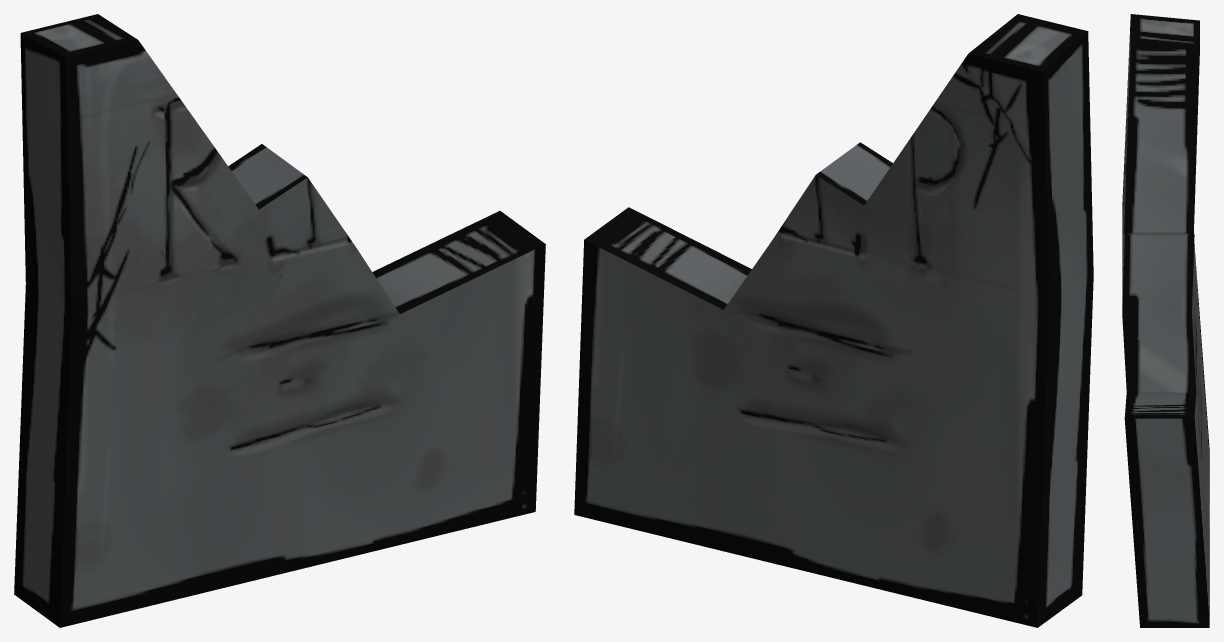
File: tombstone2_gib1.fbx
3 views of the same model, side by side, from view 1: azimuth 30°, elevation 25°; view 2: azimuth 150°, elevation 25°; view 3: azimuth 270°, elevation 25° (orthographic). The views are drawn at different scales.
Visible parts, largest first — view 1: tombstone2_gib1; view 2: tombstone2_gib1; view 3: tombstone2_gib1.
Boxes of the visible parts, x1,y1,x2,y2 form: tombstone2_gib1: (14,14,545,627); tombstone2_gib1: (574,14,1093,627); tombstone2_gib1: (1122,14,1209,627).
Bounding box in the file's own units: 229 × 264 × 47.92.
